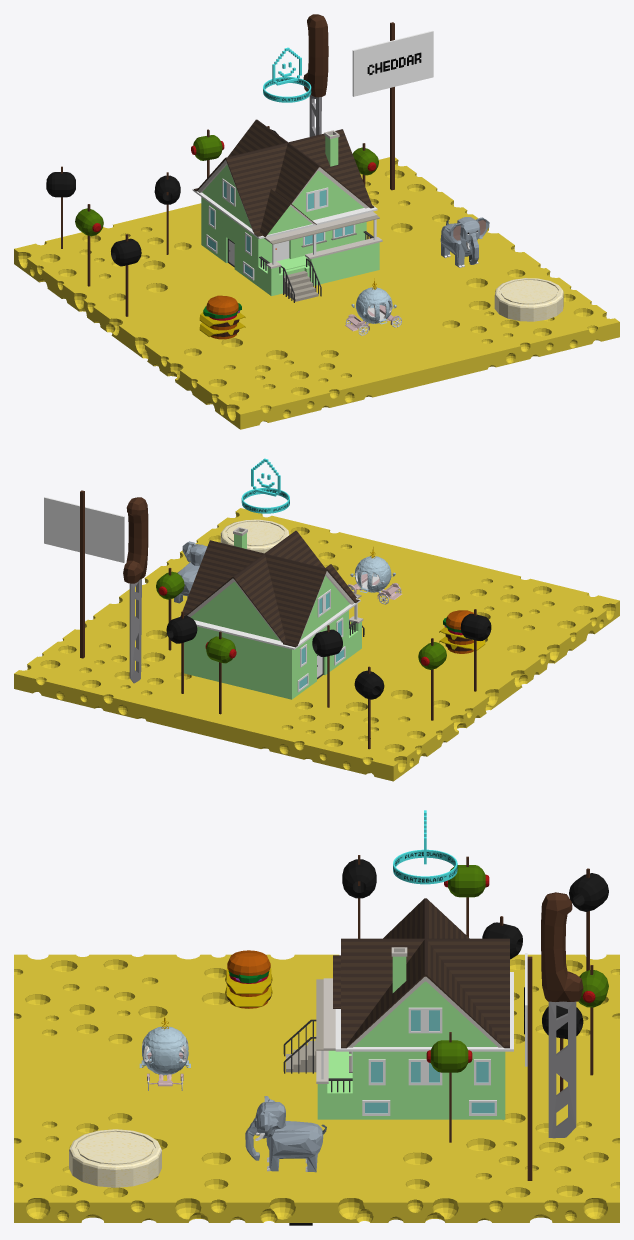
3 views of the same model, one above another, from view 1: azimuth 30°, elevation 25°; view 2: azimuth 150°, elevation 25°; view 3: azimuth 270°, elevation 25° (orthographic). The views are drawn at different scales.
Parts seen in each view (by area): view 1: Cube.022, Cube.274, Cube.023, Cylinder.016, Cube.024, ANIMAL_ELEFANTE, VEHICLES_FANTASY_CARRIAGE, OBJRANDOM_HAMBURGER, TYPE_PREMIUM, Sphere.017, Sphere.018, Sphere.016 (+3 smaller); view 2: Cube.022, Cube.274, Cube.023, Cube.024, VEHICLES_FANTASY_CARRIAGE, Cylinder.016, OBJRANDOM_HAMBURGER, TYPE_PREMIUM, ANIMAL_ELEFANTE, Sphere.021, Sphere.017, Sphere.020 (+4 smaller); view 3: Cube.022, Cube.274, Cube.024, Cylinder.016, ANIMAL_ELEFANTE, OBJRANDOM_HAMBURGER, VEHICLES_FANTASY_CARRIAGE, Cube.023, Sphere.019, Sphere.016, TYPE_PREMIUM, Sphere.017 (+4 smaller).
Boxes of the visible parts, x1,y1,x2,y2 form: Cube.022: (14,157,619,429); Cube.274: (192,119,382,302); Cube.023: (352,22,433,190); Cylinder.016: (494,278,563,321); Cube.024: (303,14,328,136); ANIMAL_ELEFANTE: (440,217,489,267); VEHICLES_FANTASY_CARRIAGE: (345,278,401,335); OBJRANDOM_HAMBURGER: (199,295,245,339); TYPE_PREMIUM: (263,47,311,102); Sphere.017: (111,234,141,316); Sphere.018: (75,204,103,286); Sphere.016: (46,166,75,248); Cube.022: (14,508,619,781); Cube.274: (179,527,364,699); Cube.023: (44,490,124,658); Cube.024: (123,497,148,683); VEHICLES_FANTASY_CARRIAGE: (348,547,402,604); Cylinder.016: (220,519,289,553); OBJRANDOM_HAMBURGER: (439,610,485,653); TYPE_PREMIUM: (241,458,289,513); ANIMAL_ELEFANTE: (174,541,207,603); Sphere.021: (166,611,197,693); Sphere.017: (460,609,491,691); Sphere.020: (312,625,342,707); Cube.022: (14,954,619,1222); Cube.274: (283,898,513,1119); Cube.024: (541,892,583,1138); Cylinder.016: (69,1129,161,1187); ANIMAL_ELEFANTE: (245,1096,326,1172); OBJRANDOM_HAMBURGER: (225,950,272,1008); VEHICLES_FANTASY_CARRIAGE: (139,1014,190,1090); Cube.023: (524,953,532,1180); Sphere.019: (426,1032,472,1142); Sphere.016: (569,868,608,970); TYPE_PREMIUM: (393,810,457,884); Sphere.017: (342,855,376,938).
Bounding box in the file's own units: 3917 × 2232 × 4000.
38 materials, 4 textured.
